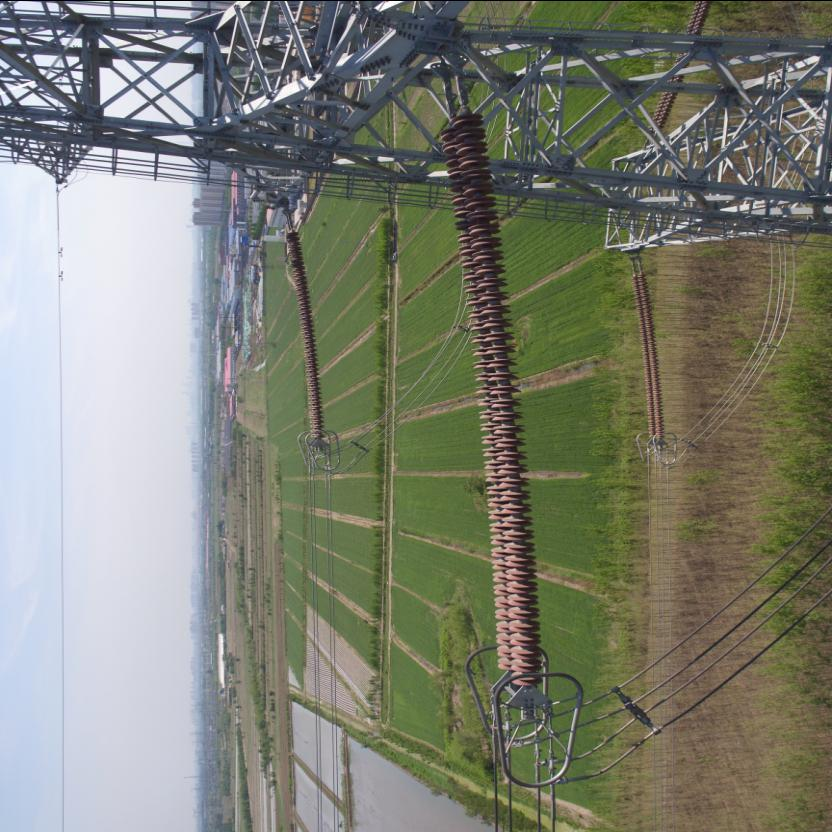insulator: (434, 94, 548, 696), (281, 223, 325, 441)
